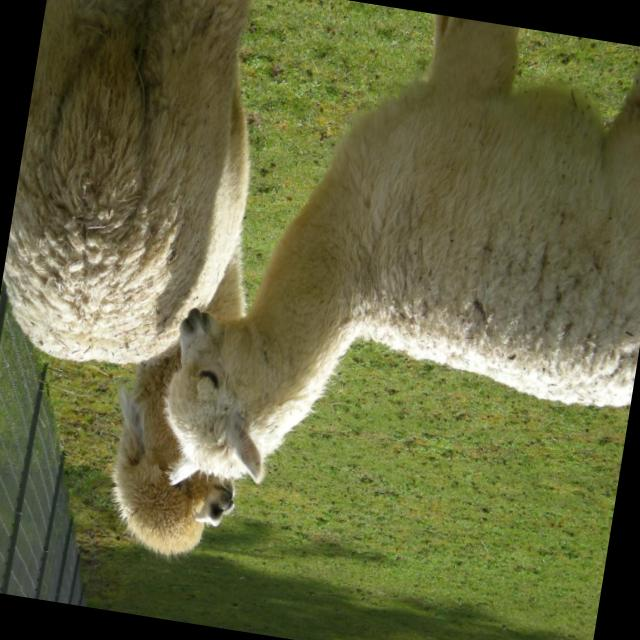alpaca: (155, 0, 640, 553), (0, 0, 314, 565)
